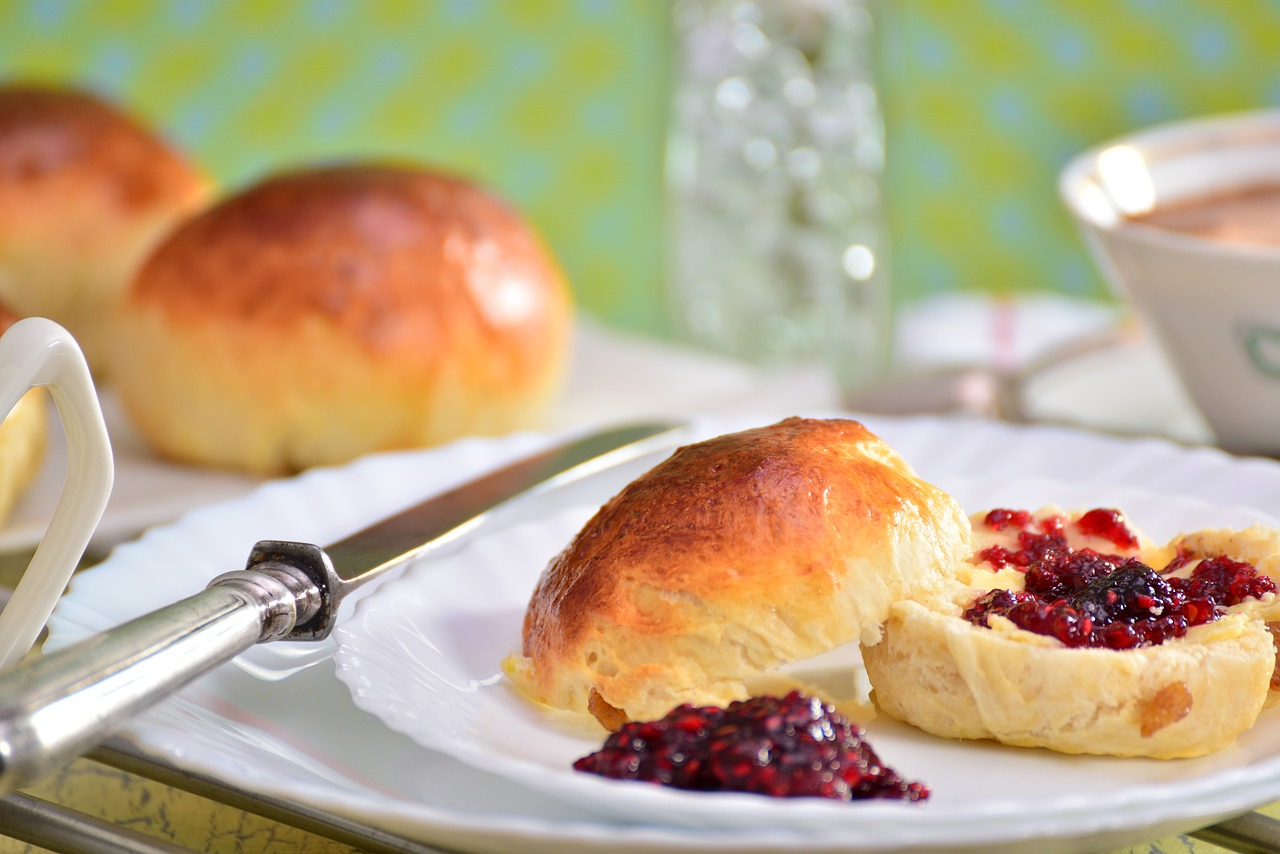knife: (0, 409, 723, 785)
